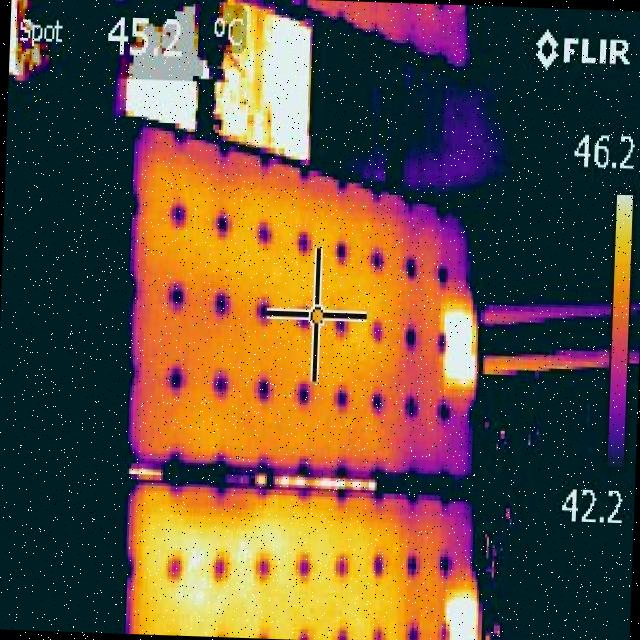Hotspot: (438, 308, 478, 389), (442, 590, 478, 640)
